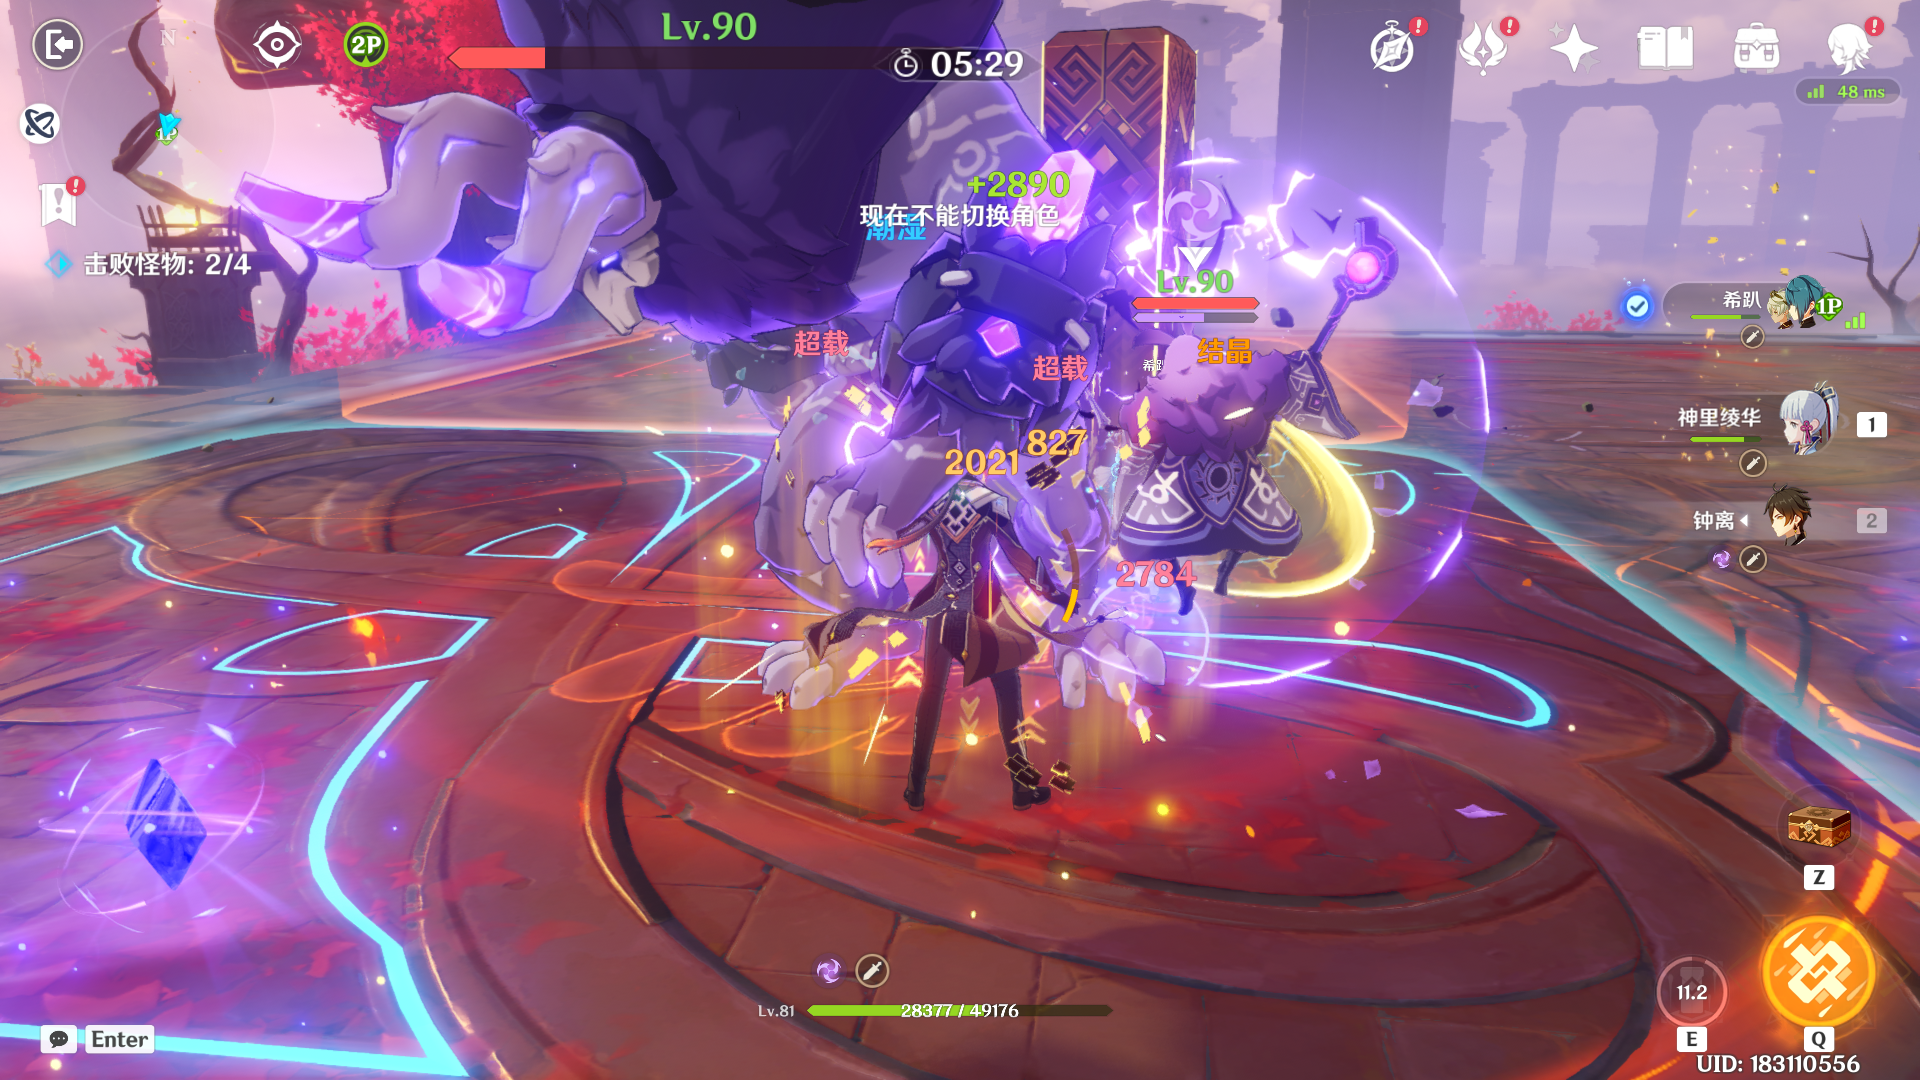bosshili: (233, 3, 1100, 744)
caster: (1077, 295, 1371, 616)
character: (814, 400, 1135, 848)
